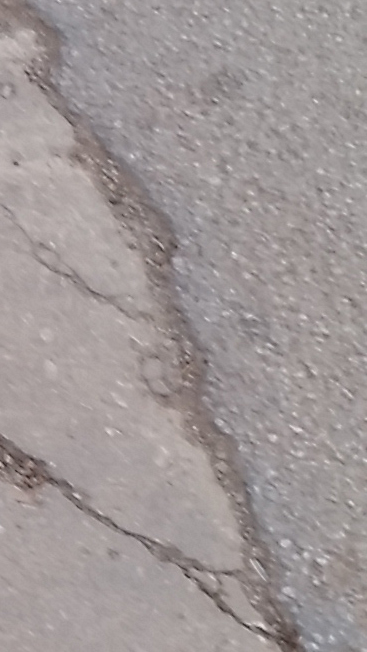A: (3, 16, 354, 646)
